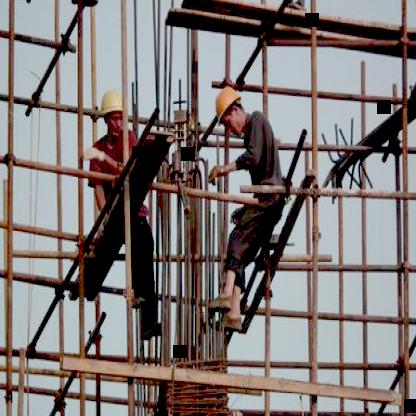helmet: (98, 84, 130, 148), (212, 82, 247, 134)
